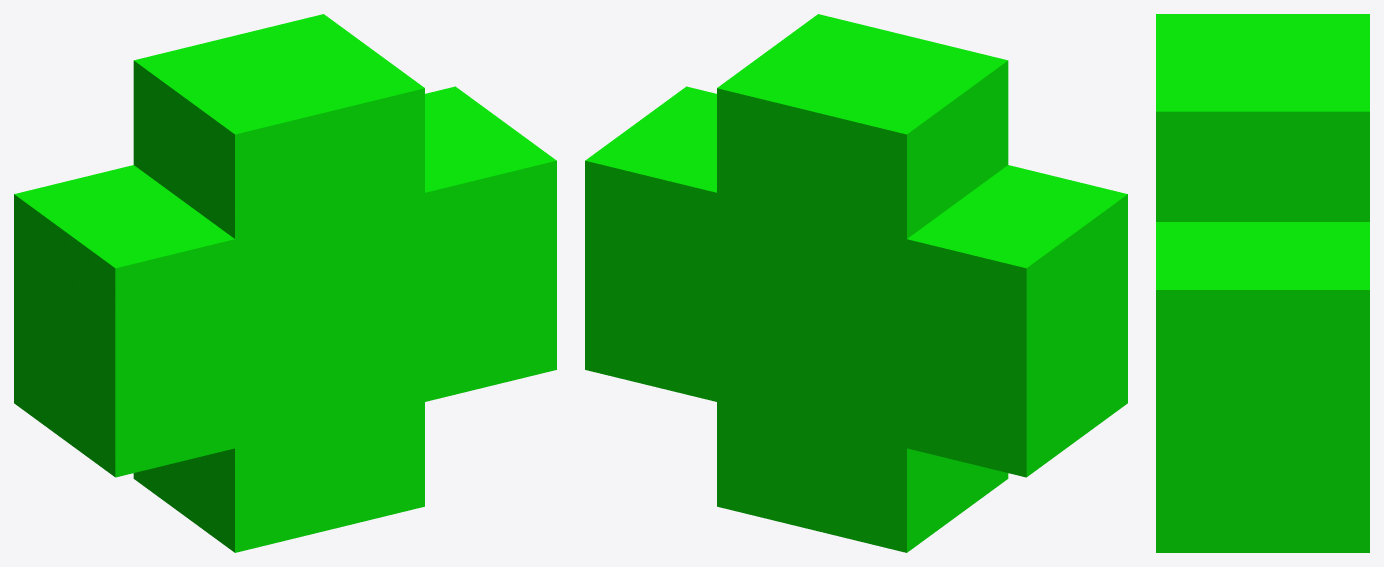
Rendered from Health.fbx.
3 views of the same model, side by side, from view 1: azimuth 30°, elevation 25°; view 2: azimuth 150°, elevation 25°; view 3: azimuth 270°, elevation 25° (orthographic). The views are drawn at different scales.
Visible parts, largest first — view 1: Box; view 2: Box; view 3: Box.
Boxes of the visible parts, x1,y1,x2,y2 form: Box: (14, 14, 556, 552); Box: (585, 14, 1127, 552); Box: (1156, 14, 1369, 552).
Bounding box in the file's own units: 110 × 100 × 43.91.
